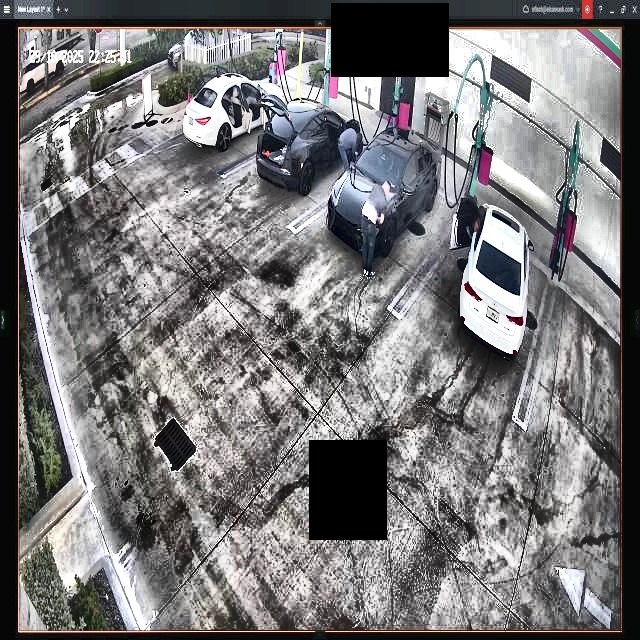Car: (327, 132, 441, 250), (453, 198, 533, 360), (256, 94, 362, 202), (183, 72, 288, 162)
